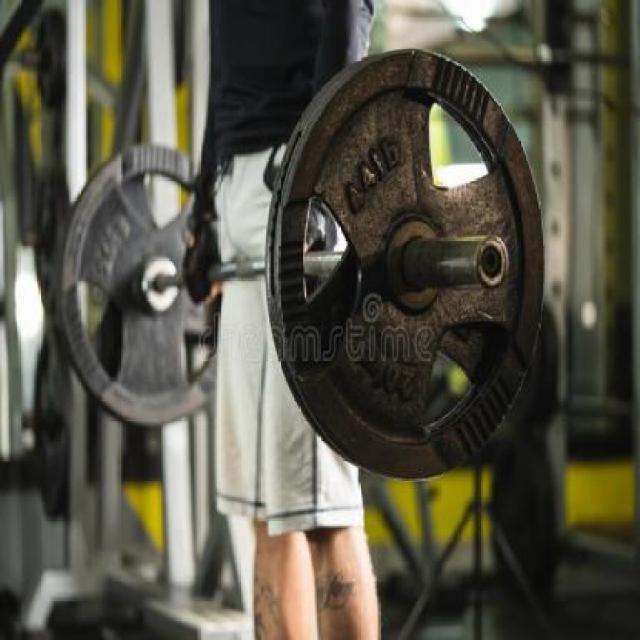Barbell: (472, 232, 512, 292)
